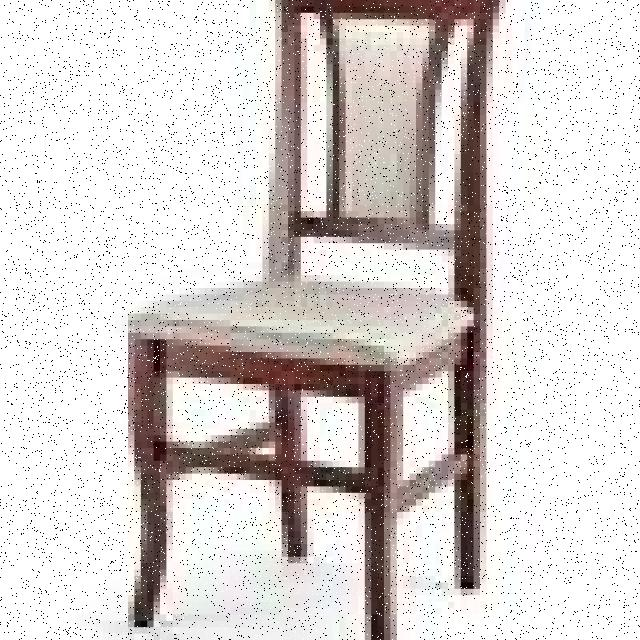bottle: (119, 0, 505, 640)
